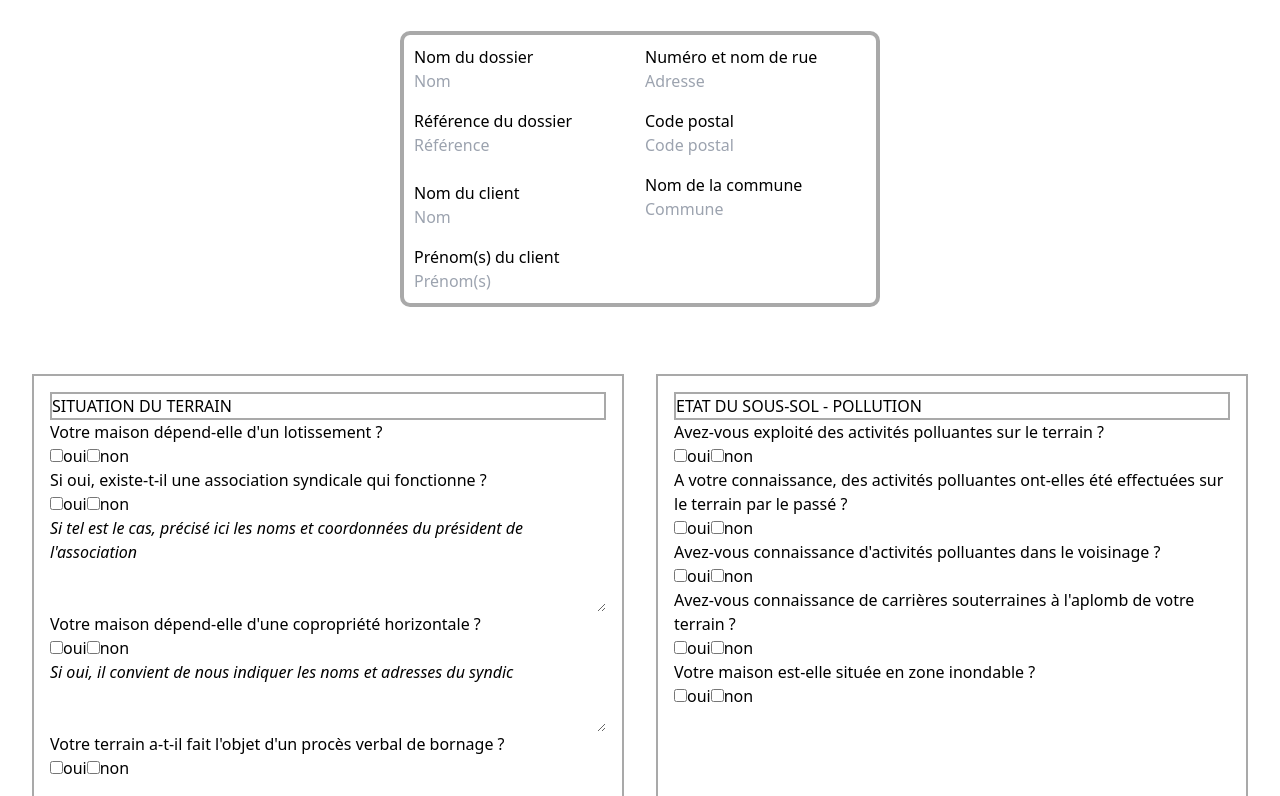
Scenario: CustomerQuiz component integration testing › Filling DossierName input should display the input value in CustomerQuizSummary
Type "Vente 123" into the field with test id "dossierNom" at (530, 81), box [414,69,645,93]
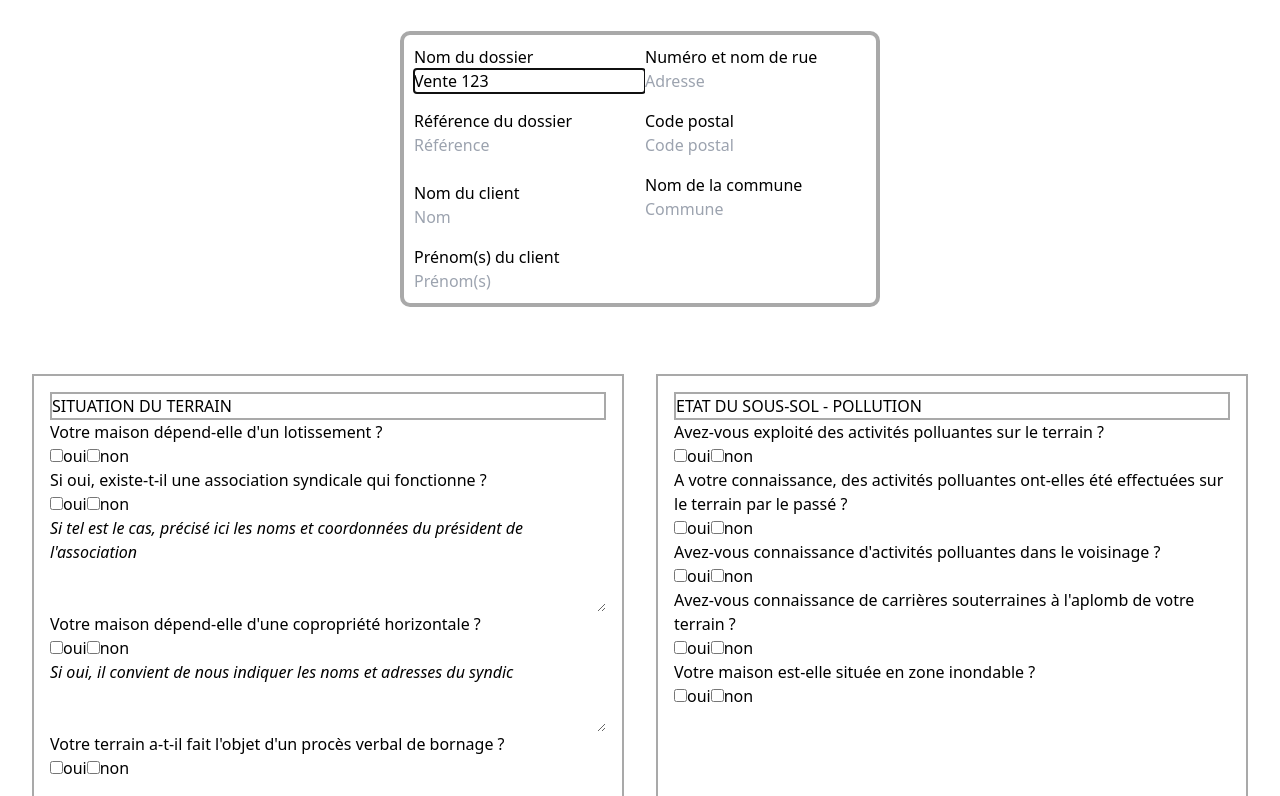
Type "201" into the field with test id "dossierNom" at (530, 81), box [414,69,645,93]
(page scrolled)
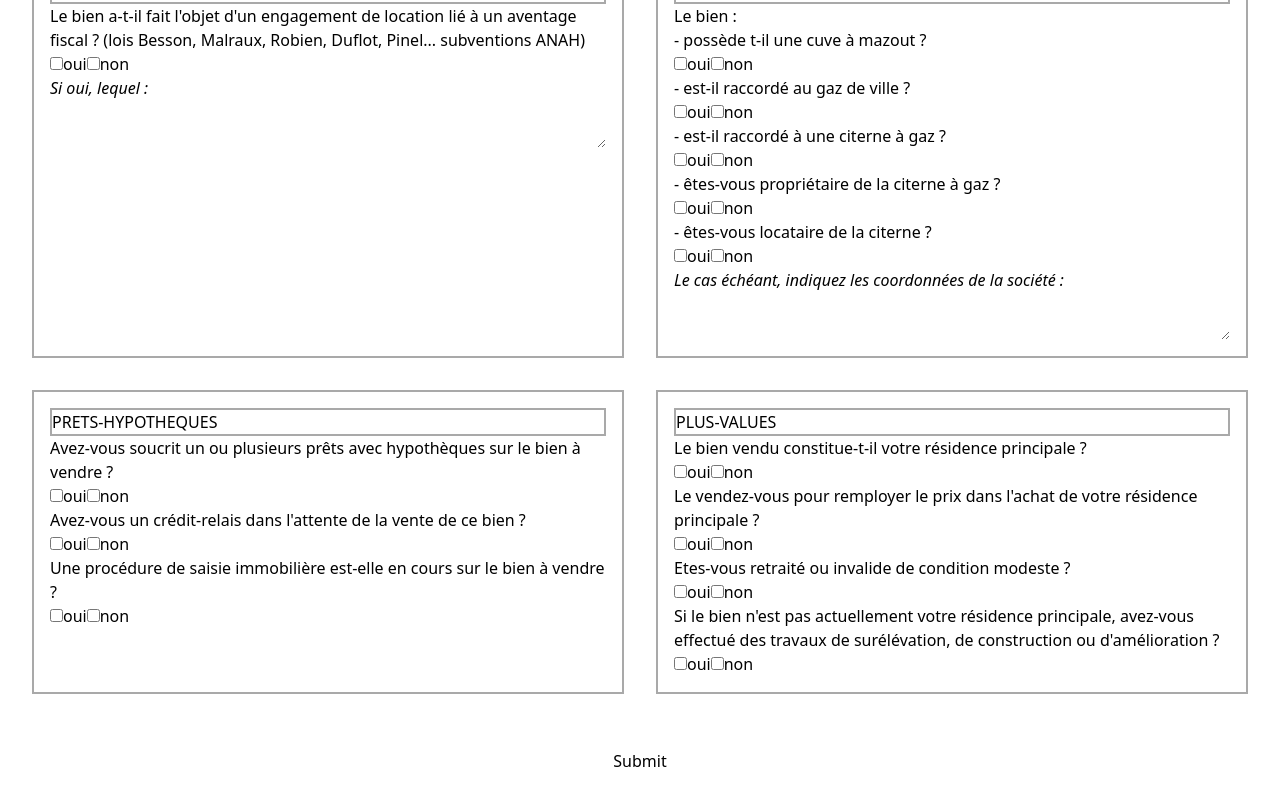
Click the button "Submit" at (640, 761), box [555,726,725,795]
(page scrolled)
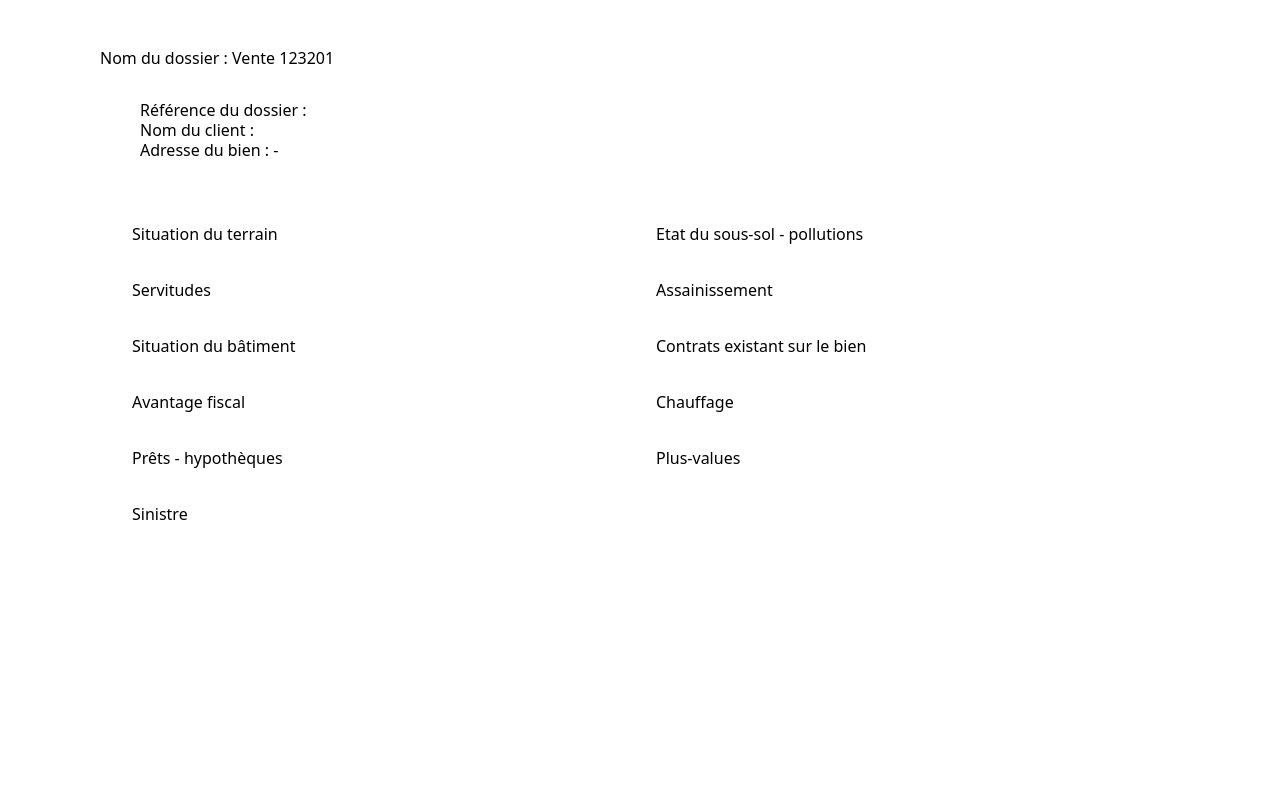
Expected: the heading "Nom du dossier : Vente 123201" is shown, [100,47,334,69]
